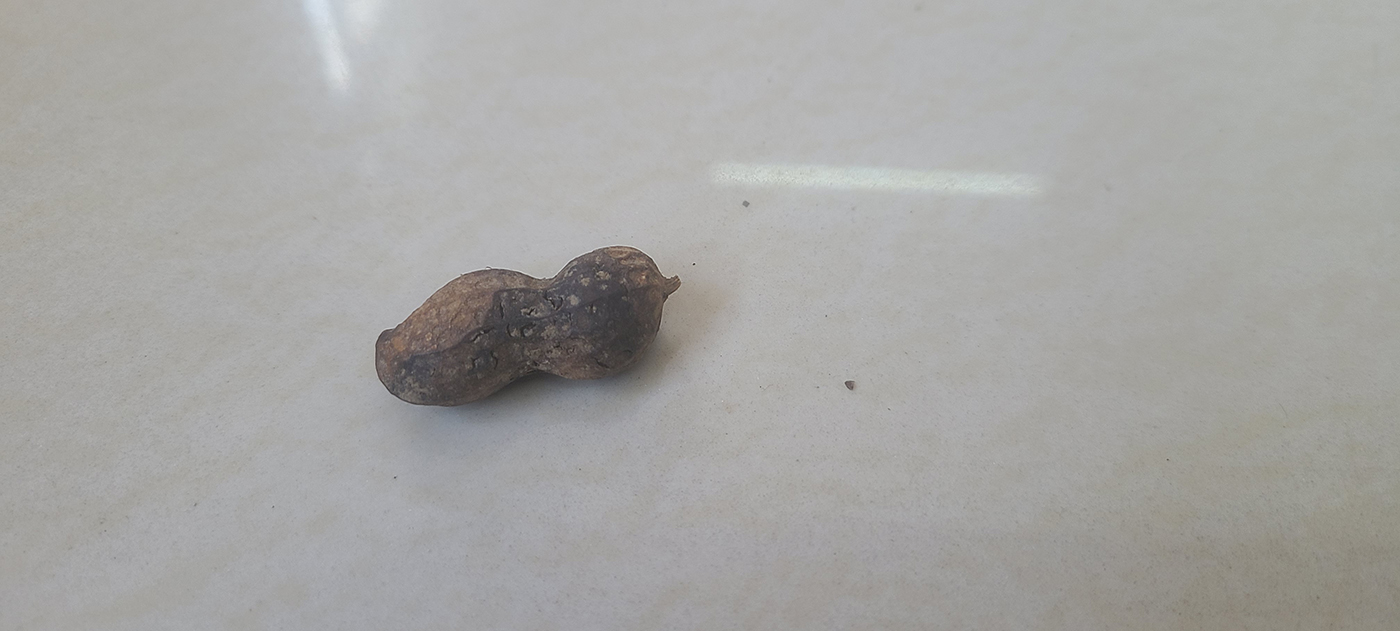l: (374, 243, 682, 404)
